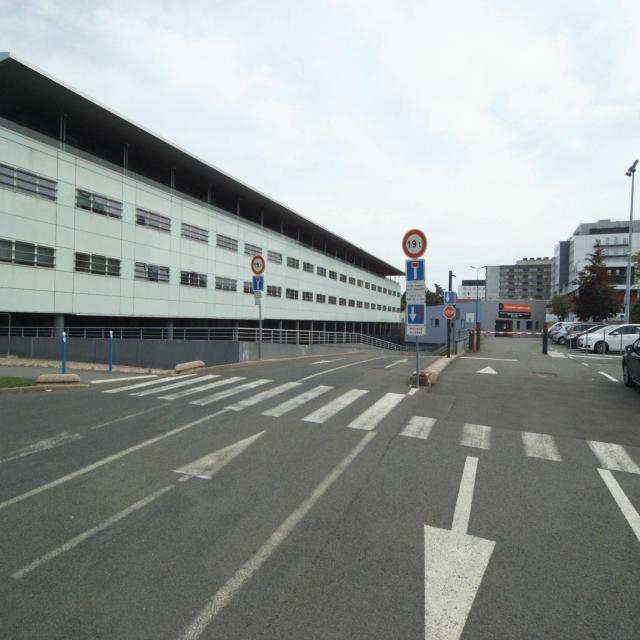car: (583, 322, 640, 354), (621, 324, 640, 398)
